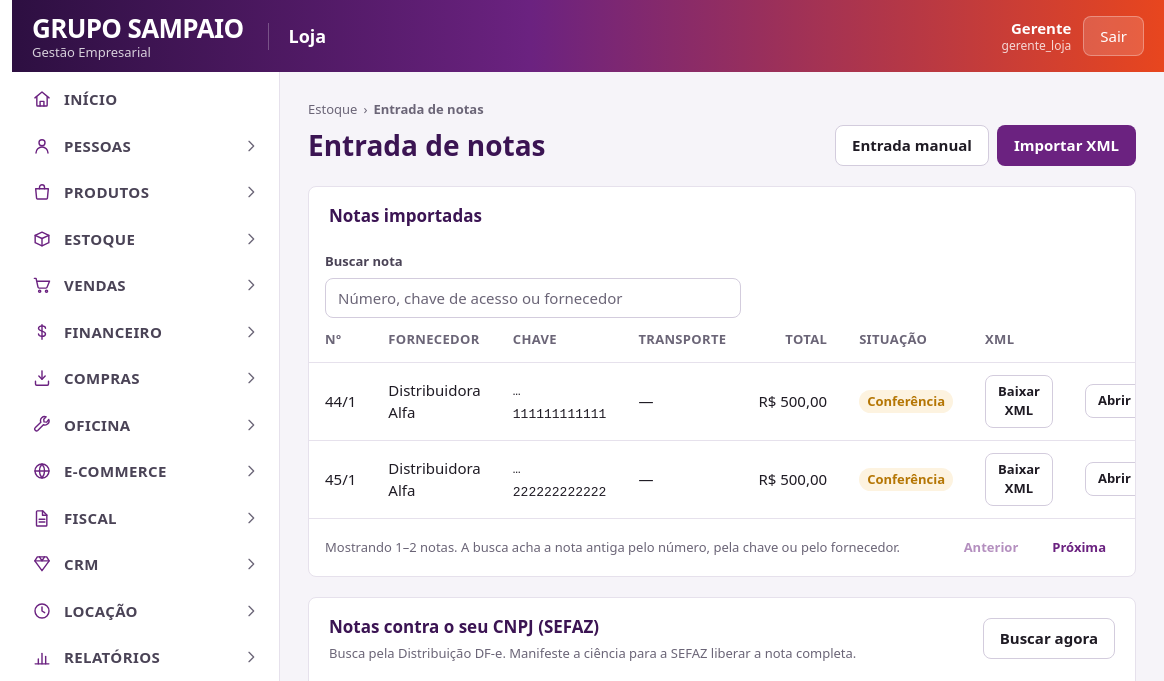
Test: o radar da SEFAZ › Buscar agora consulta e conta os novos
The width and height of the screenshot is (1164, 681).
Step 1. Click the button "Buscar agora" → (1049, 639), box [983,618,1115,659]
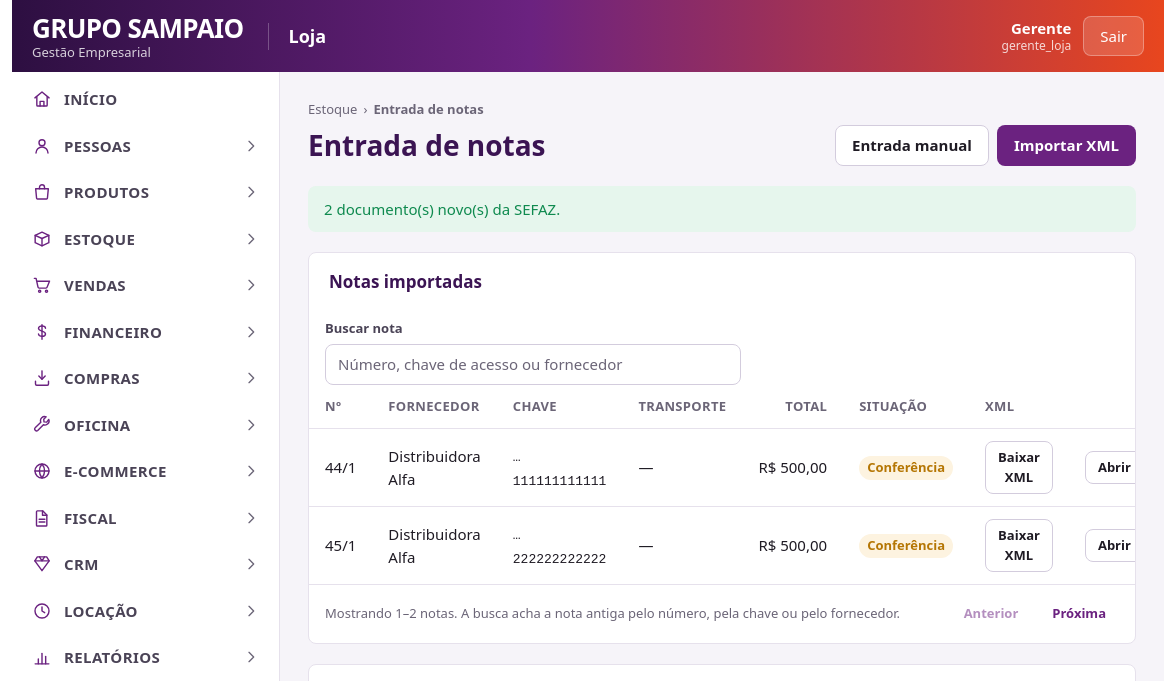
Expected: the text "2 documento(s) novo(s) da SEFAZ." is shown, [308,186,1136,232]
